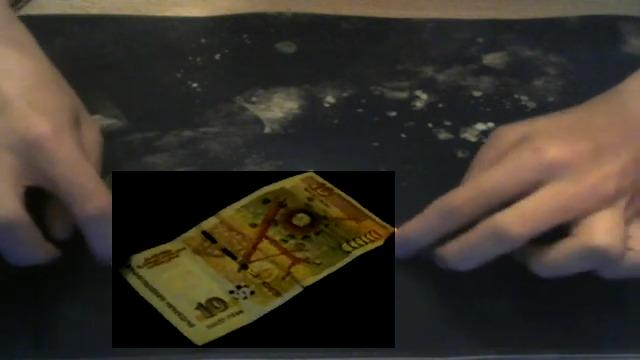10leva: (112, 171, 395, 348)
